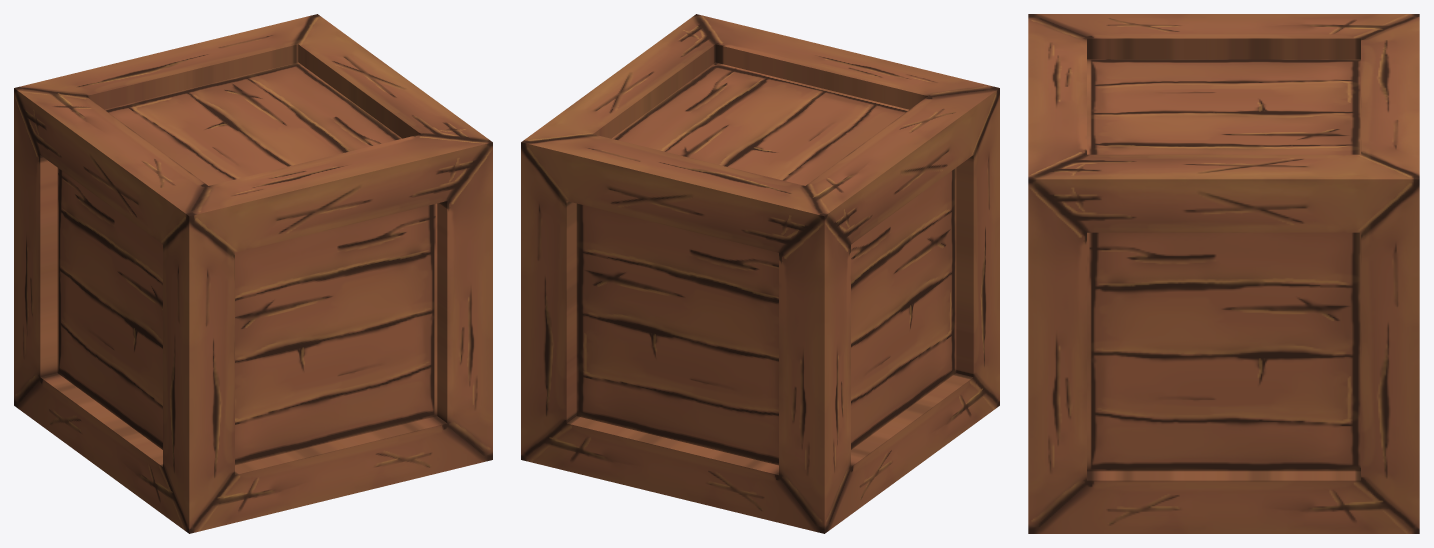
The model's file is Chest_Model.fbx.
The picture shows the model from 3 angles, left to right: view 1: azimuth 30°, elevation 25°; view 2: azimuth 150°, elevation 25°; view 3: azimuth 270°, elevation 25°; orthographic projection. The views are drawn at different scales.
Parts seen in each view (by area): view 1: Chest; view 2: Chest; view 3: Chest.
Part boxes in pixels (x1,y1,x2,y2): Chest: [14, 14, 492, 533]; Chest: [521, 14, 999, 533]; Chest: [1028, 14, 1419, 533].
Size of the model in its own units: 200 by 200 by 200.
